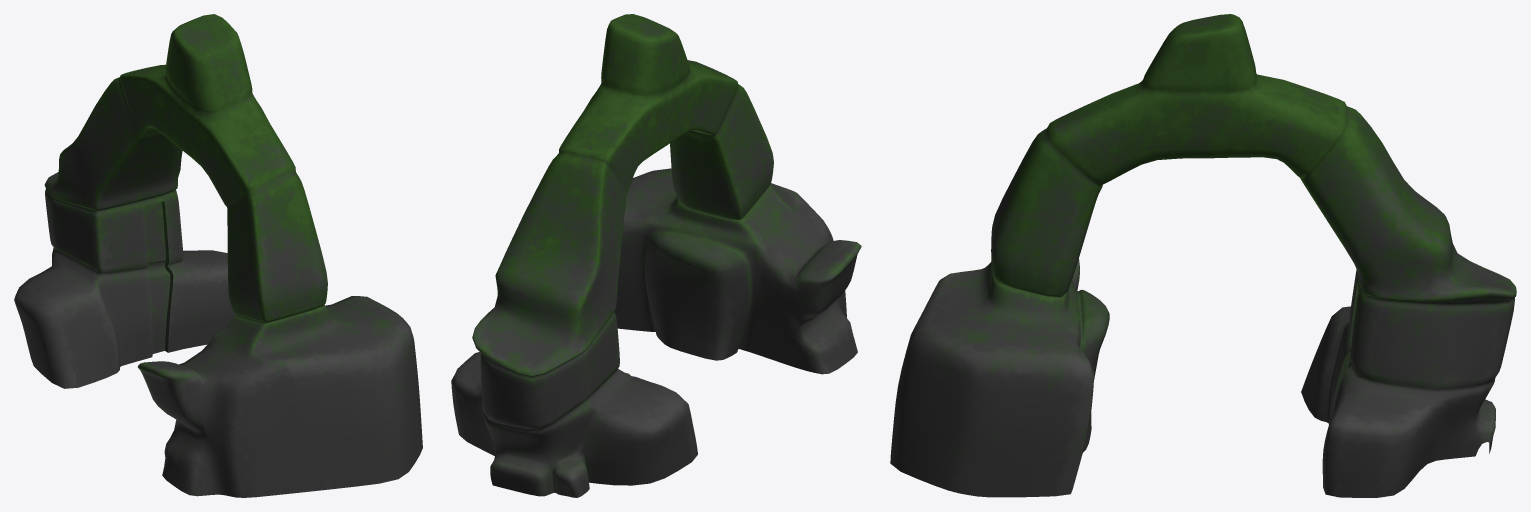
File: FINAL_Stone_Arch.obj
3 views of the same model, side by side, from view 1: azimuth 30°, elevation 25°; view 2: azimuth 150°, elevation 25°; view 3: azimuth 270°, elevation 25° (orthographic). The views are drawn at different scales.
Parts seen in each view (by area): view 1: FINAL_Stone_Arch; view 2: FINAL_Stone_Arch; view 3: FINAL_Stone_Arch.
Boxes of the visible parts, x1,y1,x2,y2 form: FINAL_Stone_Arch: [14, 14, 422, 497]; FINAL_Stone_Arch: [451, 14, 861, 497]; FINAL_Stone_Arch: [890, 14, 1516, 497].
Size of the model in its own units: 57.94 by 85.15 by 114.
